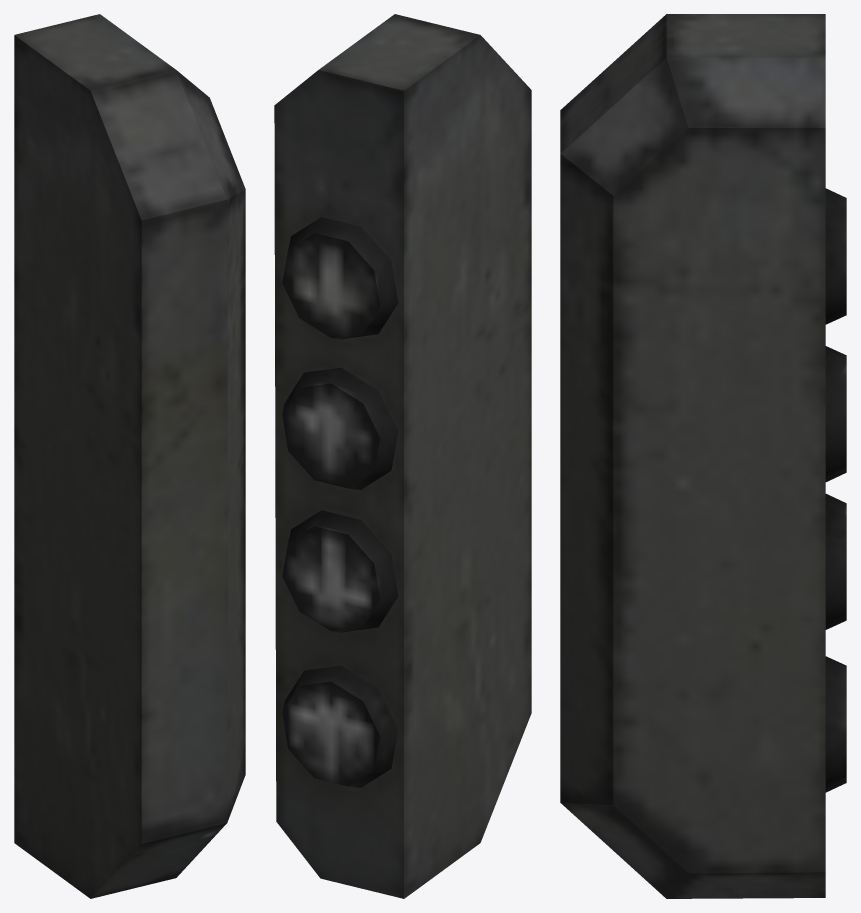
The model's file is DoorLock.FBX.
The picture shows the model from 3 angles, left to right: view 1: azimuth 30°, elevation 25°; view 2: azimuth 150°, elevation 25°; view 3: azimuth 270°, elevation 25°; orthographic projection. The views are drawn at different scales.
Visible parts, largest first — view 1: DoorLock; view 2: DoorLock; view 3: DoorLock.
Part boxes in pixels (left/top/right/bottom): DoorLock: left=14, top=14, right=245, bottom=898; DoorLock: left=274, top=14, right=531, bottom=898; DoorLock: left=560, top=14, right=846, bottom=898.
Size of the model in its own units: 5.88 by 35 by 10.79.
